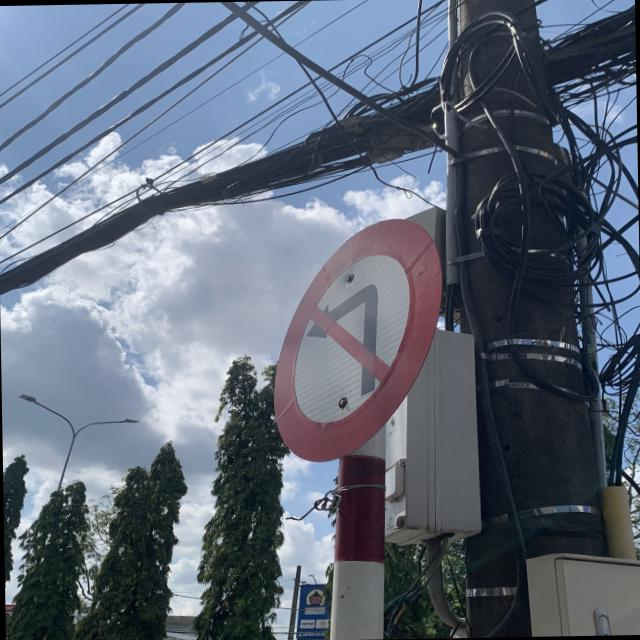Cam_Re_Trai: (270, 216, 446, 461)
